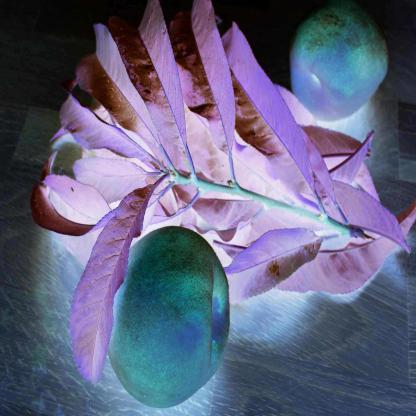Peach leaf: (66, 176, 166, 388), (214, 3, 320, 200), (118, 0, 194, 150), (179, 5, 240, 162), (81, 38, 163, 151), (223, 226, 325, 302), (60, 81, 156, 161), (72, 154, 148, 206)
